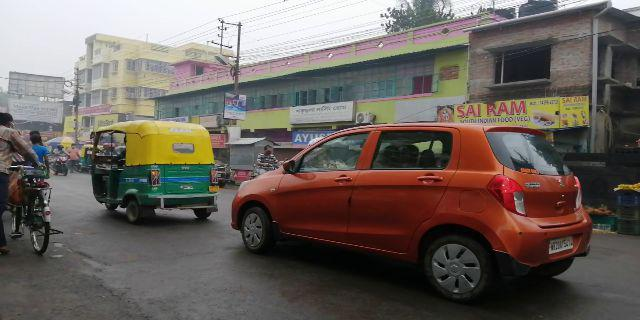Autorickshaw: (90, 122, 222, 221)
Car: (239, 123, 596, 289)
Cycle: (4, 158, 67, 261)
